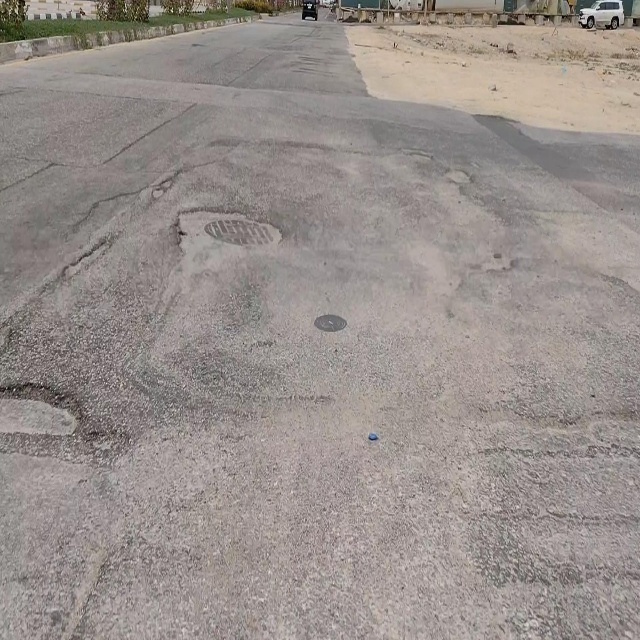pothole: (0, 380, 87, 439), (176, 206, 284, 253)
